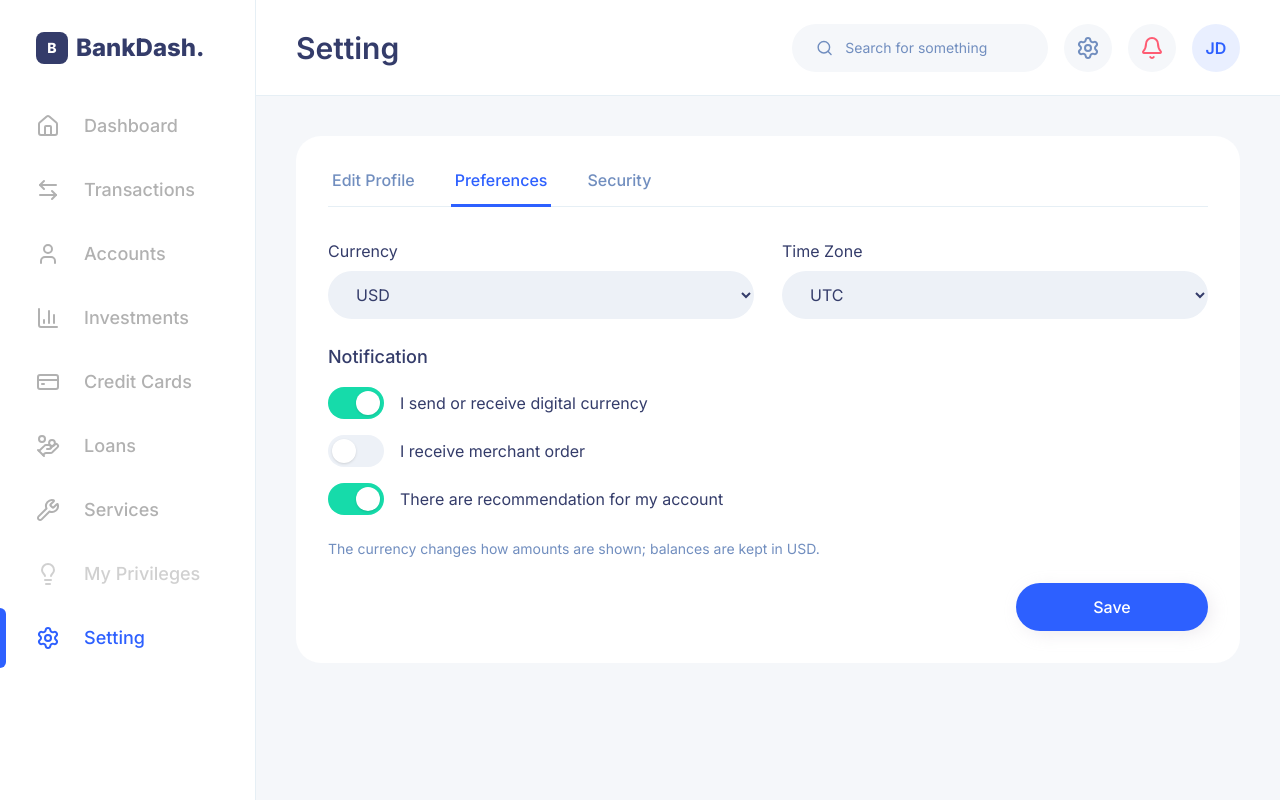
Test: Settings › Preferences › shows field errors from the server
The width and height of the screenshot is (1280, 800).
Check: the form named "Preferences" is shown, box [328, 239, 1208, 631]
Click the button "Save": (1112, 607) [1016, 583, 1208, 631]
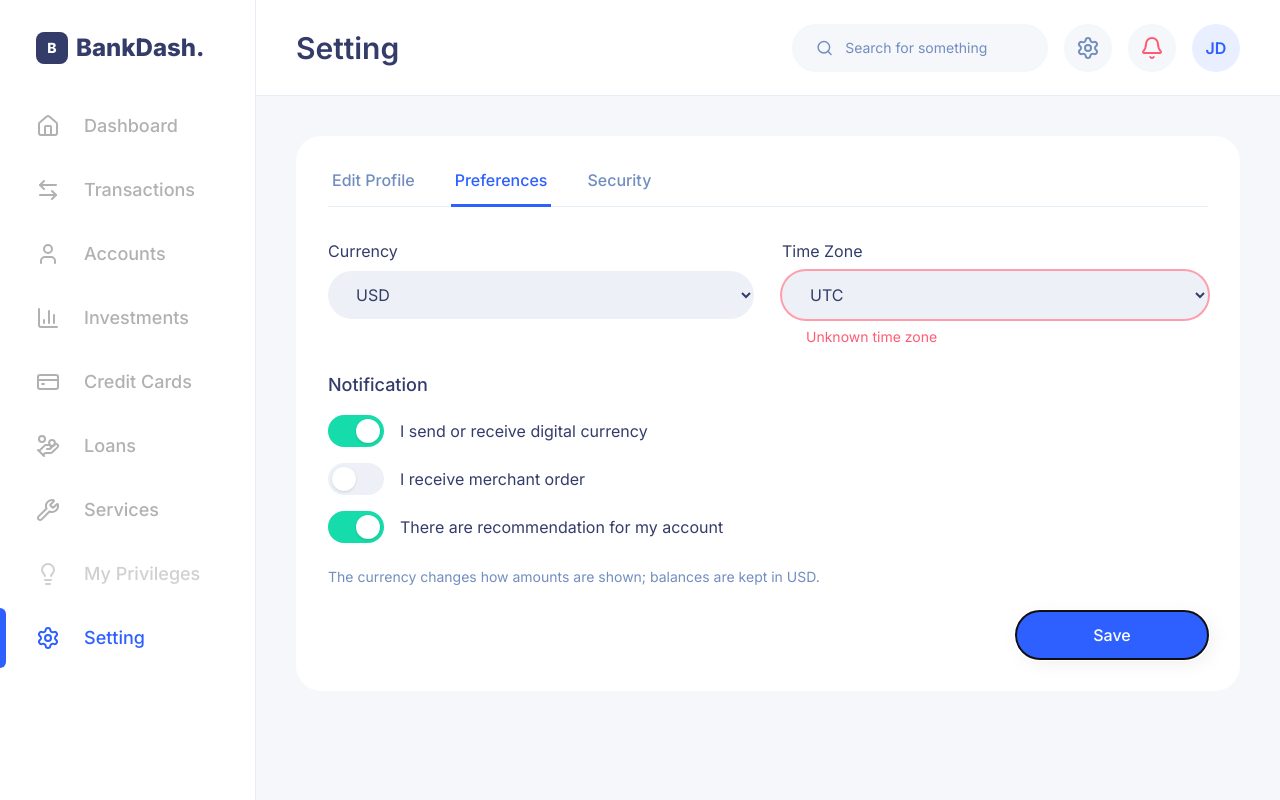
Check: the text "Unknown time zone" is shown, box [806, 328, 937, 345]
